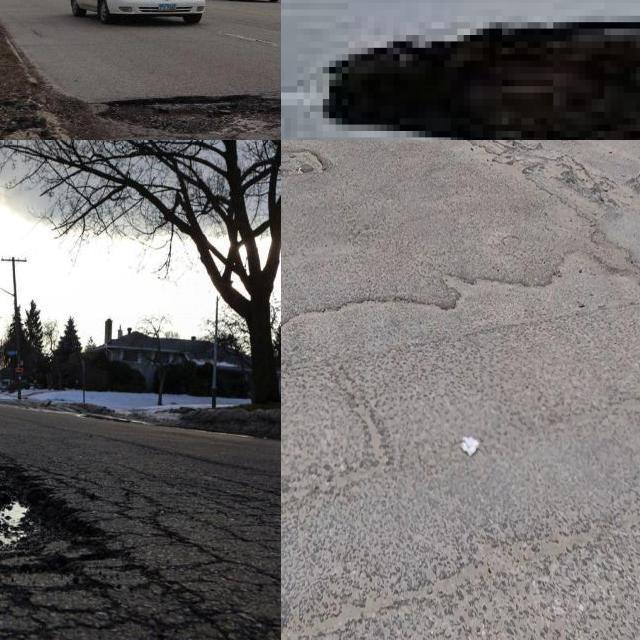Pothole: (323, 22, 640, 140), (0, 467, 106, 551), (95, 95, 281, 133), (281, 145, 327, 177)
